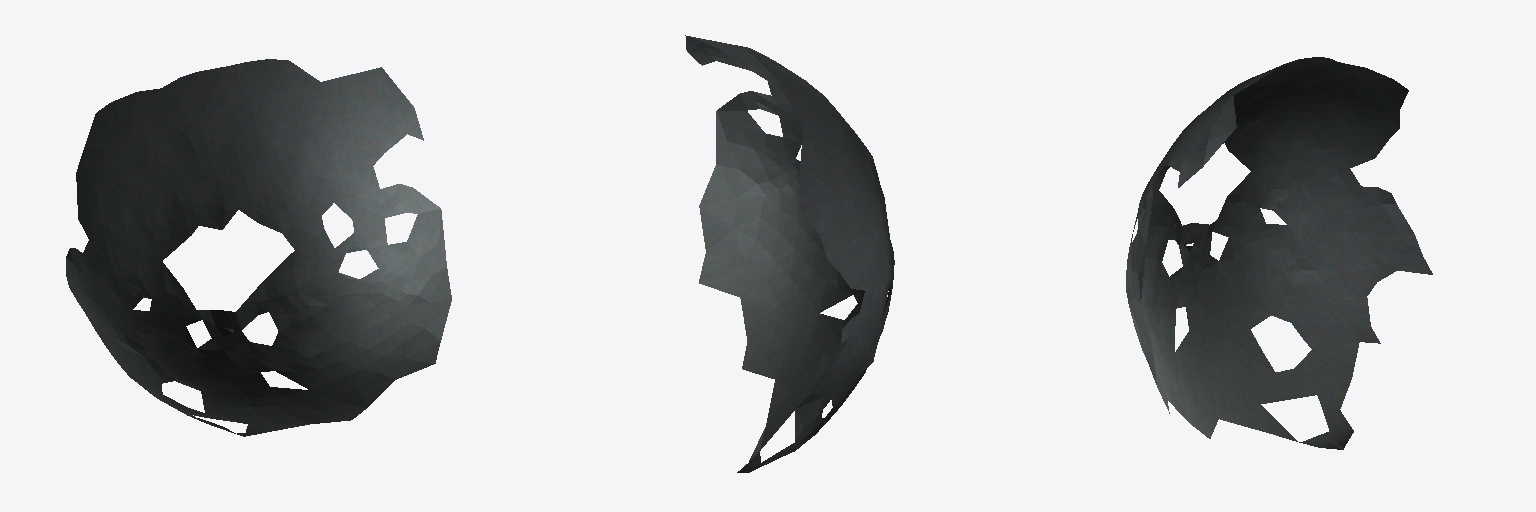
The picture shows the model from 3 angles: view 1: azimuth 30°, elevation 25°; view 2: azimuth 150°, elevation 25°; view 3: azimuth 270°, elevation 25°; orthographic projection.
Size of the model in its own units: 52.2 by 73.07 by 52.41.
1 materials, 1 textured.